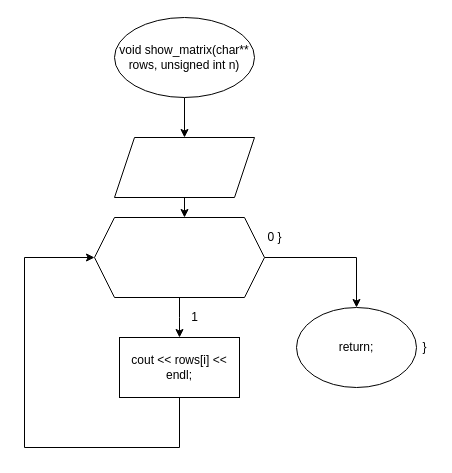
This 452x473 diagram has some shape labels left out. Each missing label, with the centre of its shape:
cout << "Вывод " << n << " строк: " << endl;: point (184, 167)
for (int i = 0; i < n; ++i): point (179, 257)
